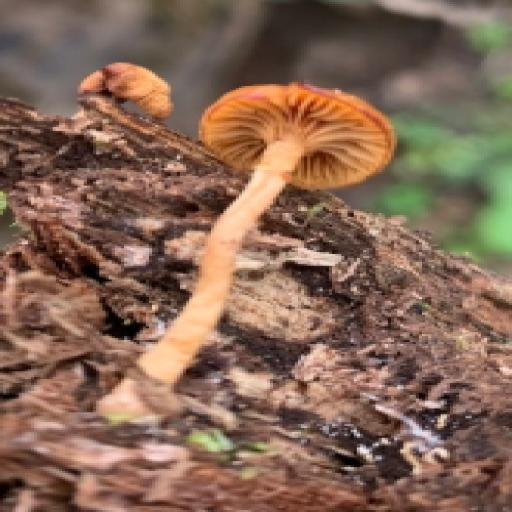mushroom: (176, 65, 403, 290)
